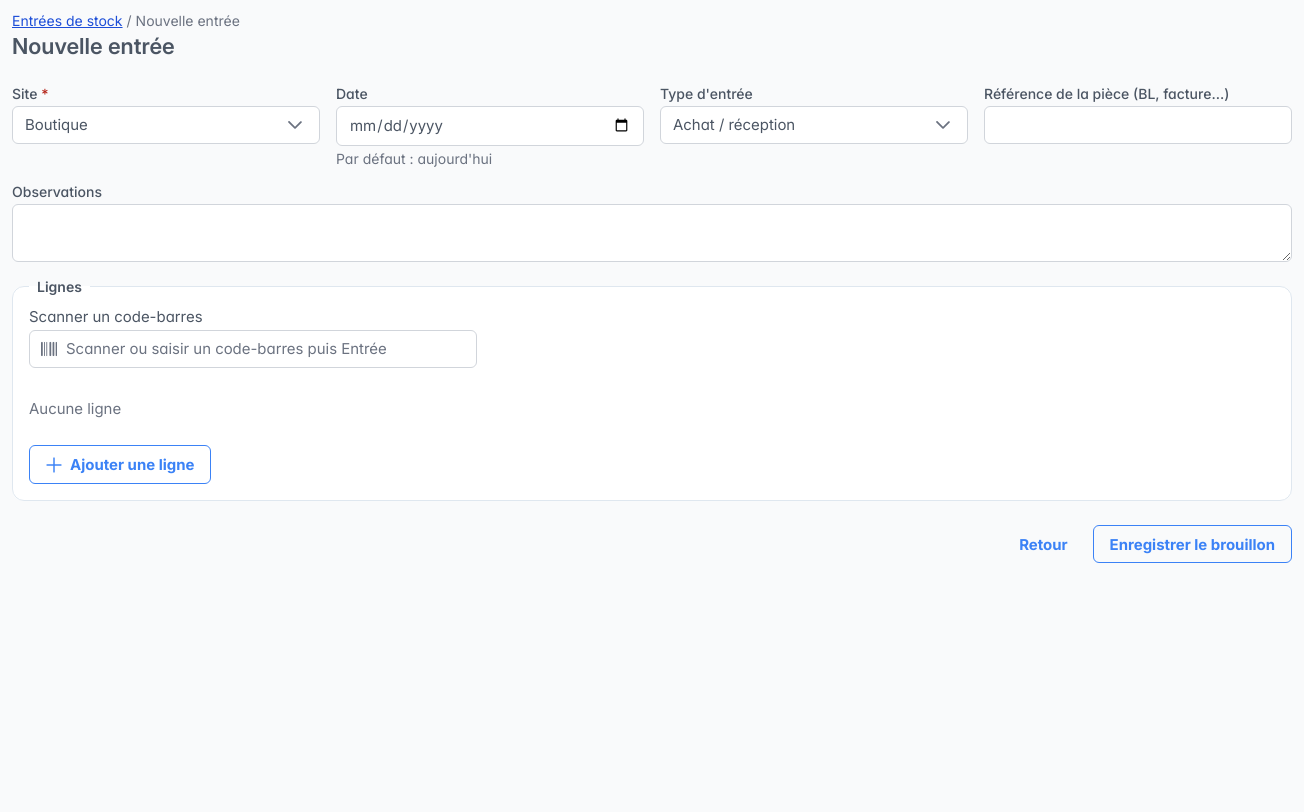
Test: scan des écrans opérationnels (Lot 3-D) › entrée : le scan présélectionne article + conditionnement, quantité à saisir
This screenshot has width=1304, height=812.
Type "C-1" into the field labelled "Scanner un code-barres". click: (253, 349)
box: 29,330 -> 477,368
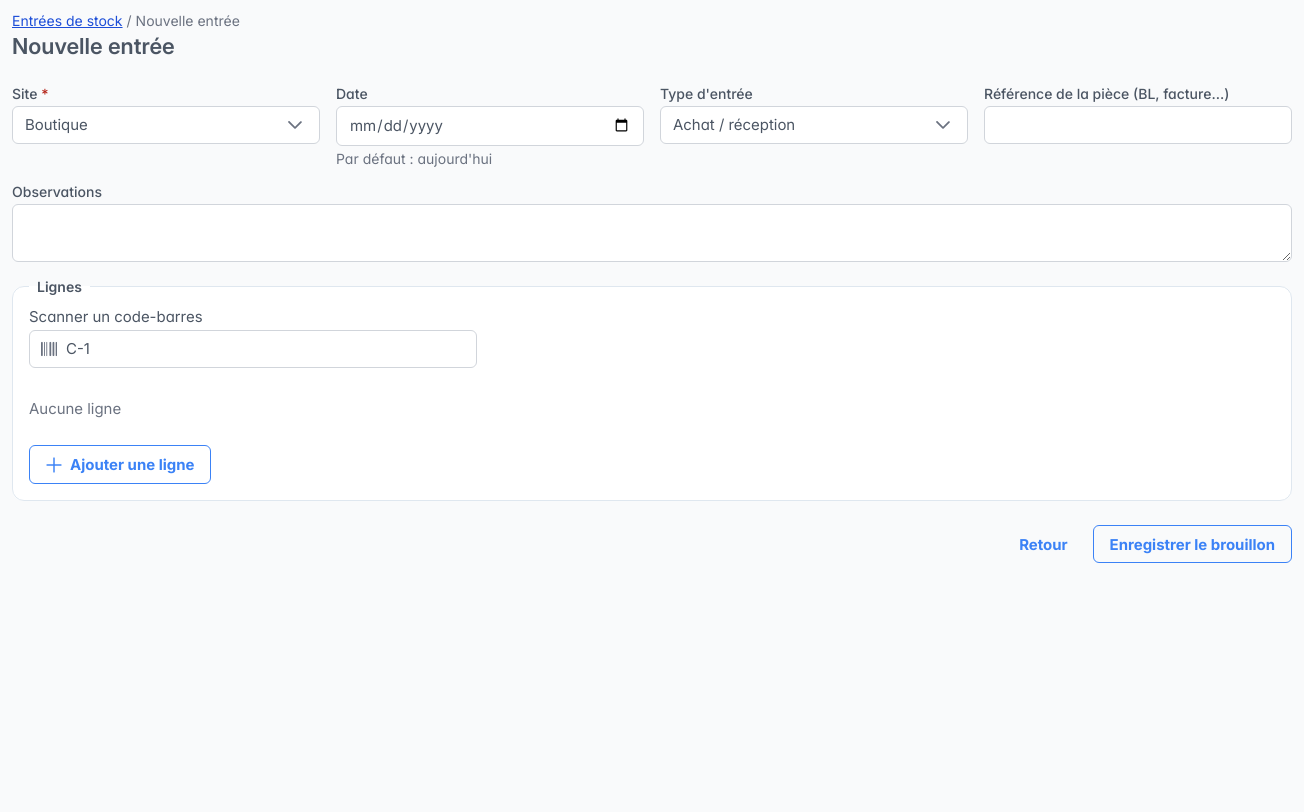
Press Enter in the field labelled "Scanner un code-barres", box 29,330 -> 477,368
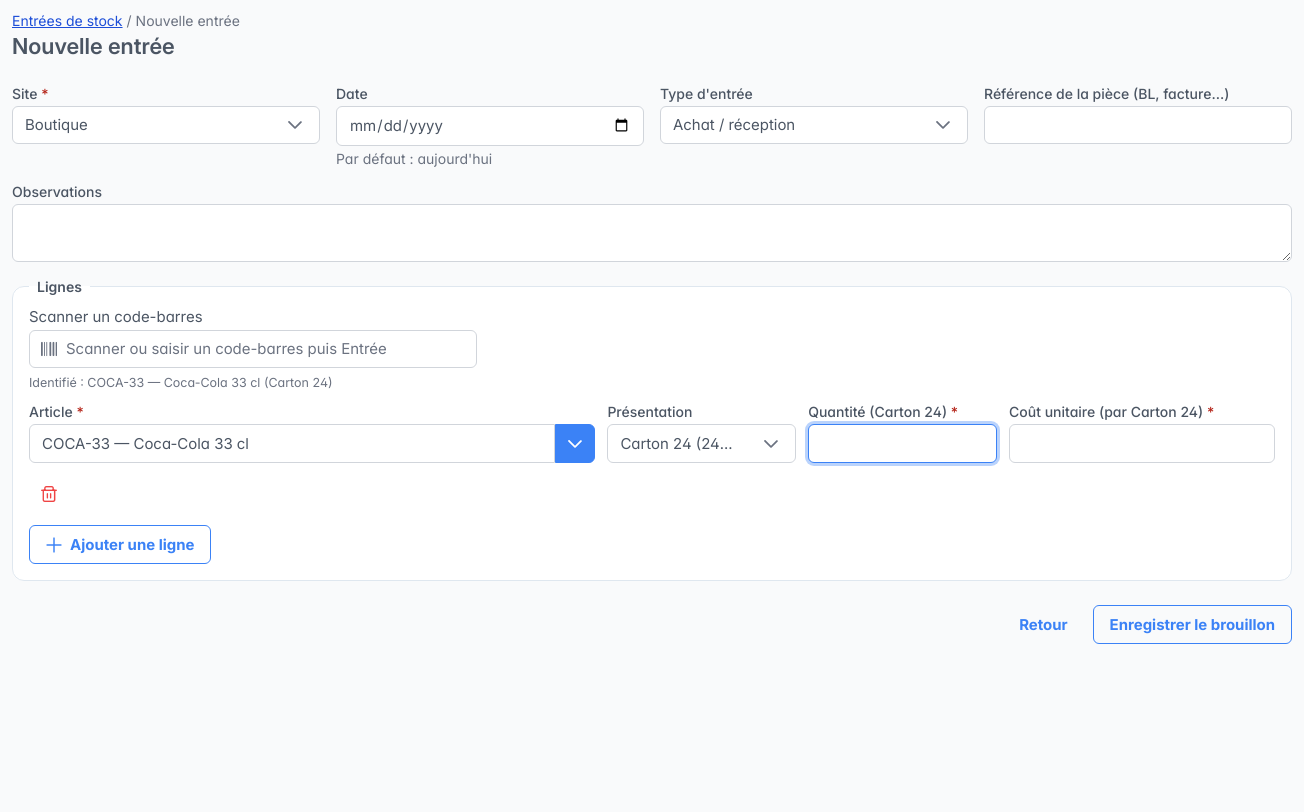
Check: the field labelled "Quantité (Carton 24) *" is empty, box 808,424 -> 997,463
Check: the field labelled "Coût unitaire (par Carton 24) *" is shown, box 1009,424 -> 1275,463
Check: the message reads "Identifié : COCA-33 — Coca-Cola 33 cl (Carton 24)", box 29,375 -> 332,390
Type "C-1" into the field labelled "Scanner un code-barres". click: (253, 349)
box: 29,330 -> 477,368
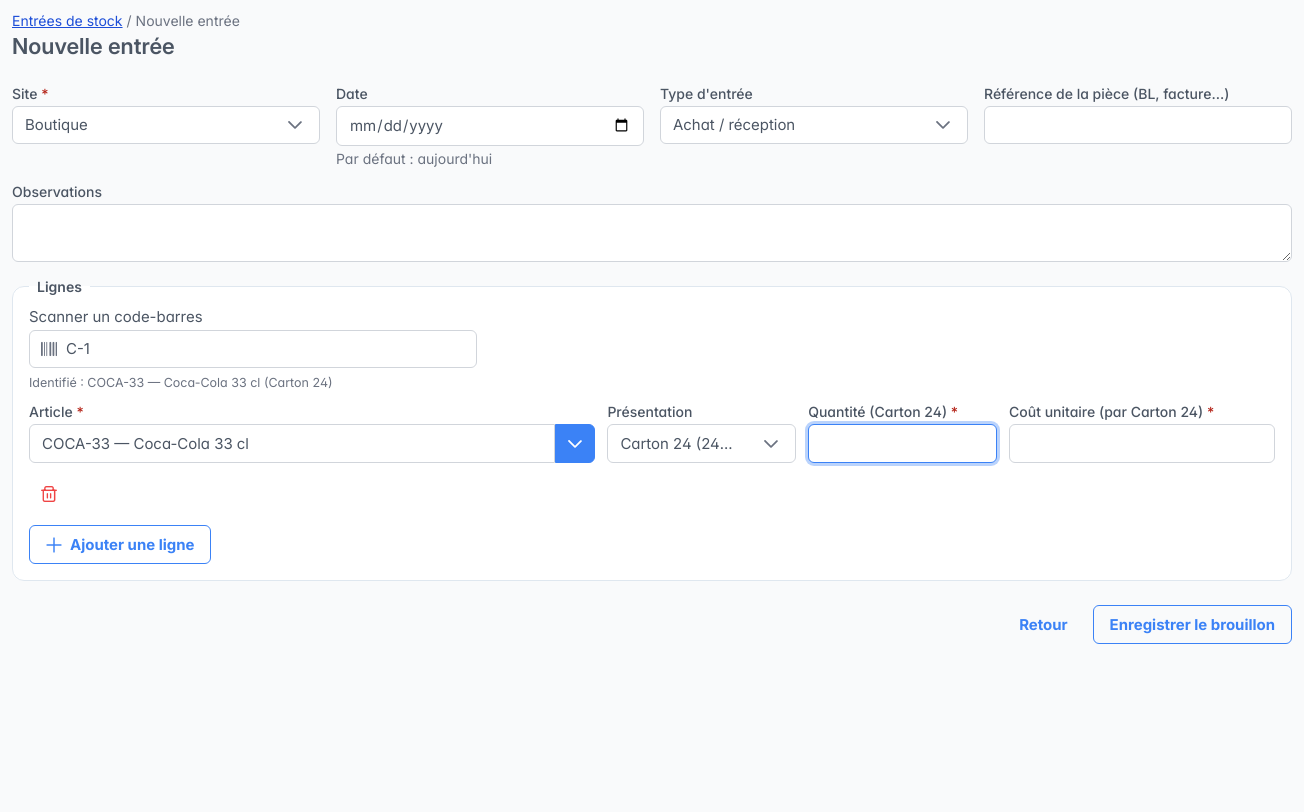
Press Enter in the field labelled "Scanner un code-barres", box 29,330 -> 477,368
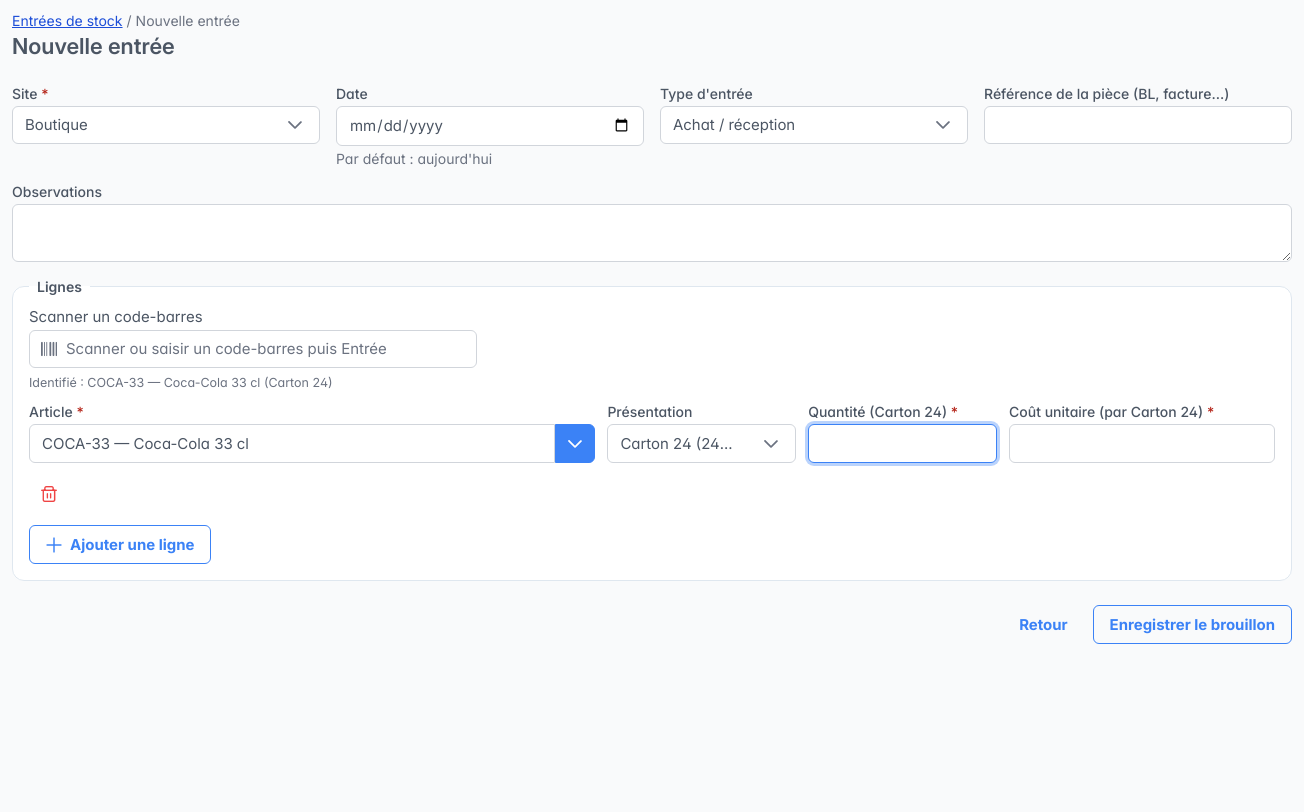
Check: the number of fields labelled "Quantité (Carton 24) *" is 1, box 808,424 -> 997,463
Type "111" into the field labelled "Scanner un code-barres". click: (253, 349)
box: 29,330 -> 477,368
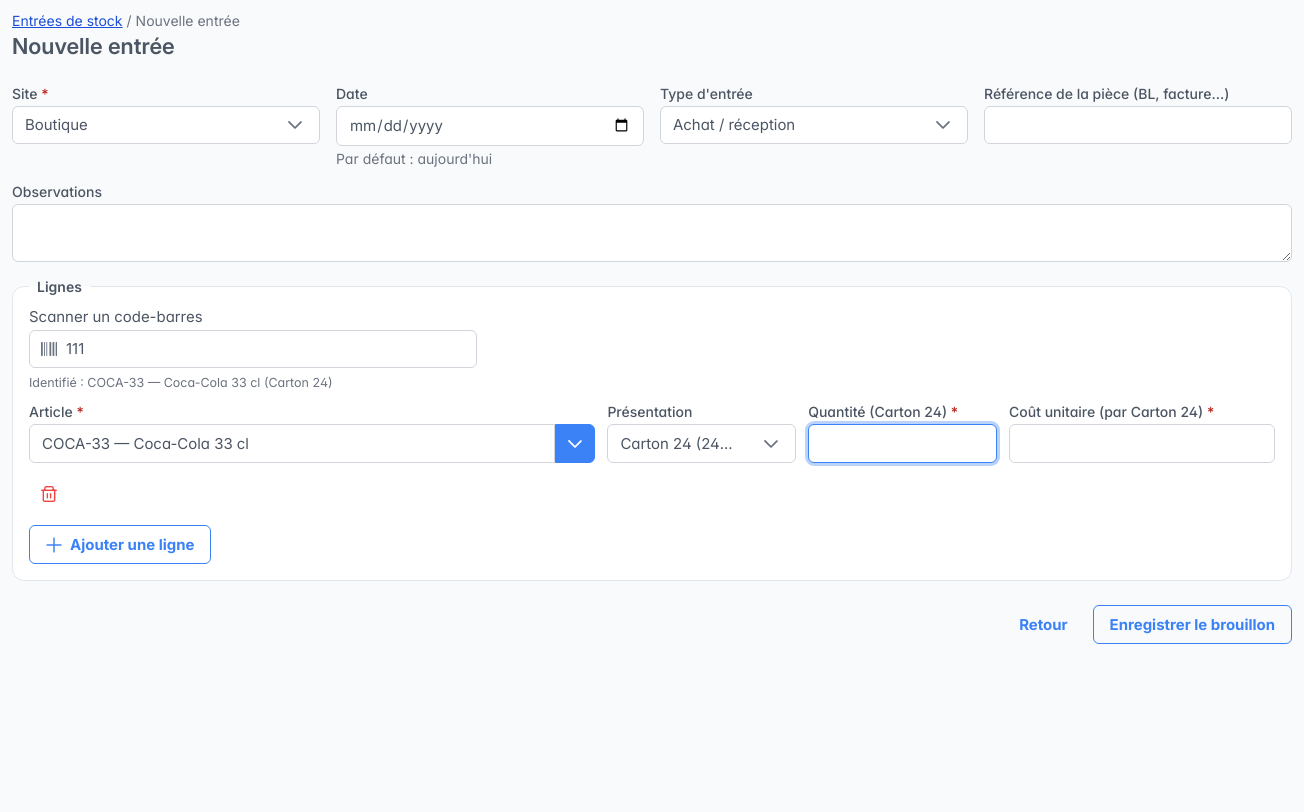
Press Enter in the field labelled "Scanner un code-barres", box 29,330 -> 477,368
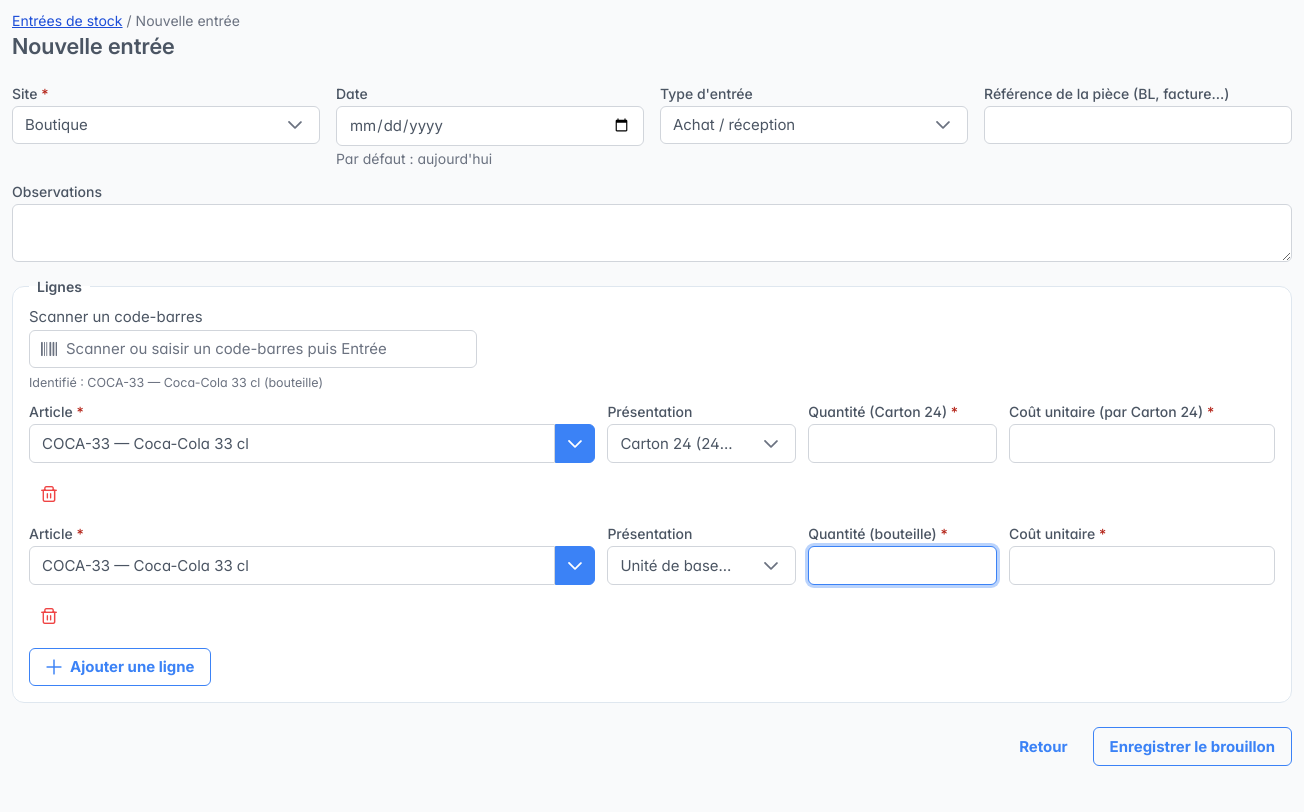
Check: the field labelled "Quantité (bouteille) *" is shown, box 808,546 -> 997,585
